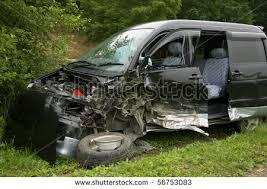Front-Windscreen-Damage: (84, 29, 140, 64)
doorouter-dent: (145, 71, 201, 127)
